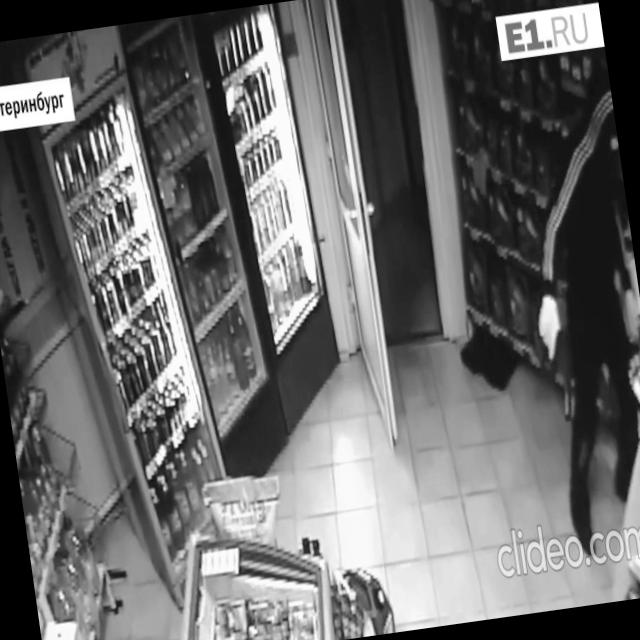gun: (549, 320, 575, 394)
person with a gun: (503, 65, 640, 560)
